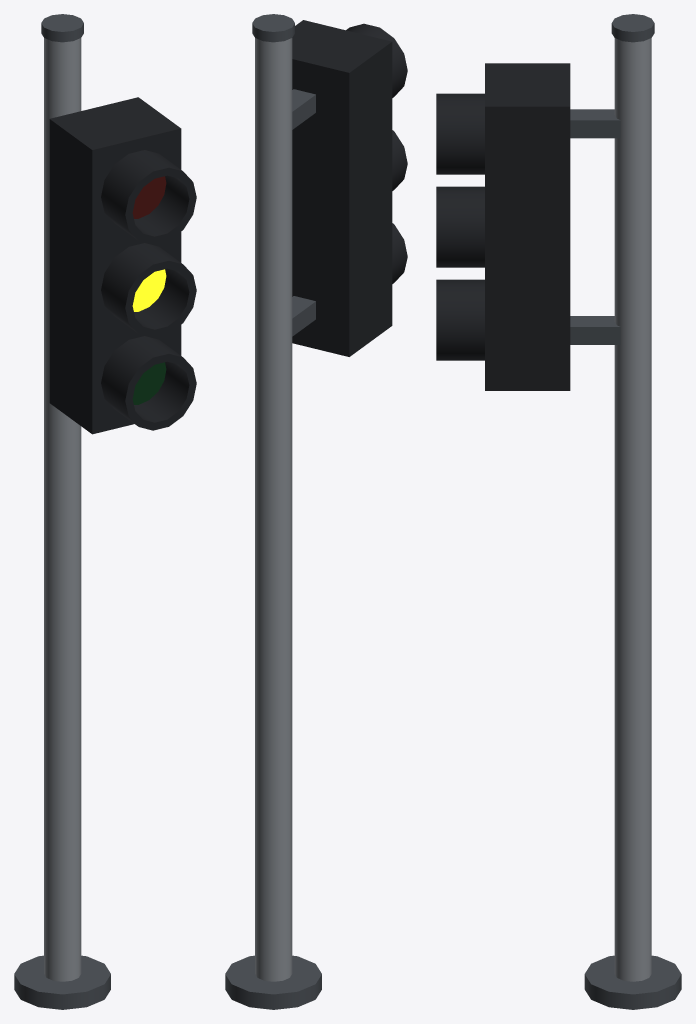
Rendered from semaforo-amarelo.glb.
The picture shows the model from 3 angles, left to right: view 1: azimuth 30°, elevation 25°; view 2: azimuth 150°, elevation 25°; view 3: azimuth 270°, elevation 25°; orthographic projection.
Parts seen in each view (by area): view 1: Poste, Caixa, Viseiras, Luz_Verde, Luz_Vermelho, Luz_Amarelo; view 2: Poste, Caixa, Viseiras, Suportes; view 3: Poste, Caixa, Viseiras, Suportes.
Part boxes in pixels (x1=…): Poste: x1=14, y1=14, x2=110, y2=1009; Caixa: x1=49, y1=97, x2=181, y2=434; Viseiras: x1=101, y1=150, x2=196, y2=430; Luz_Verde: x1=132, y1=362, x2=166, y2=404; Luz_Vermelho: x1=132, y1=176, x2=166, y2=218; Luz_Amarelo: x1=132, y1=269, x2=166, y2=311; Poste: x1=225, y1=14, x2=321, y2=1009; Caixa: x1=292, y1=20, x2=392, y2=356; Viseiras: x1=346, y1=23, x2=407, y2=283; Suportes: x1=292, y1=89, x2=315, y2=336; Poste: x1=584, y1=14, x2=681, y2=1009; Caixa: x1=485, y1=63, x2=570, y2=390; Viseiras: x1=436, y1=93, x2=484, y2=360; Suportes: x1=570, y1=109, x2=620, y2=344.
Size of the model in its own units: 0.36 by 3.74 by 0.86.
